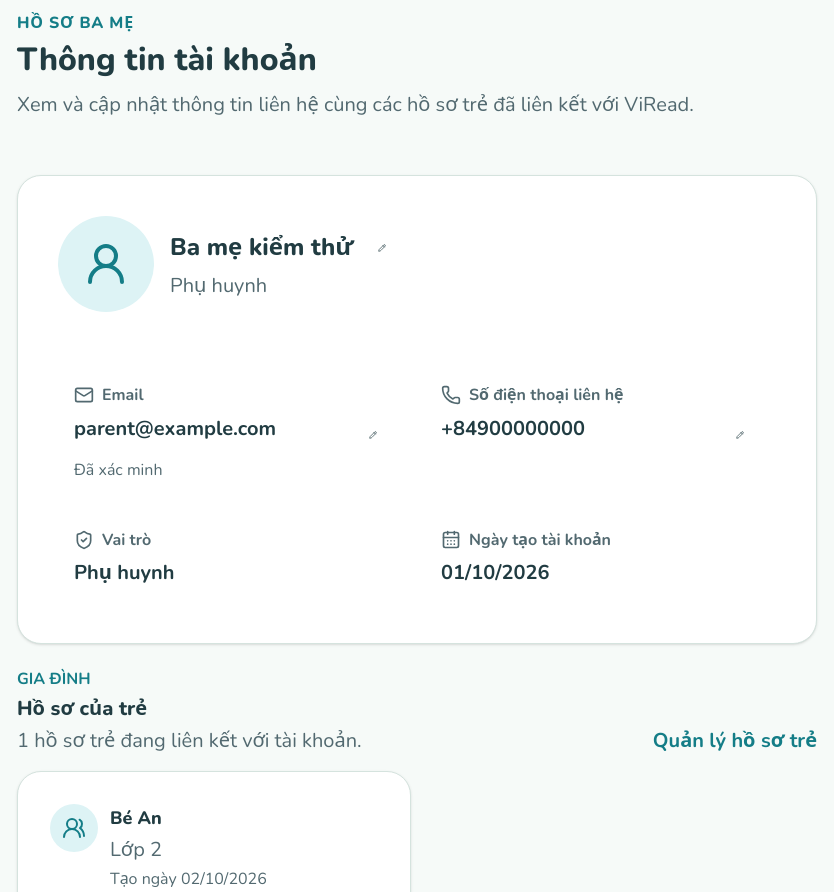
Test case: ParentProfileScreen inline editing › edits the email in place and leaves verification pending until Auth confirms it
This screenshot has width=834, height=892.
Click the button named "Chỉnh sửa email". click: (373, 435)
box: [353,415,393,455]
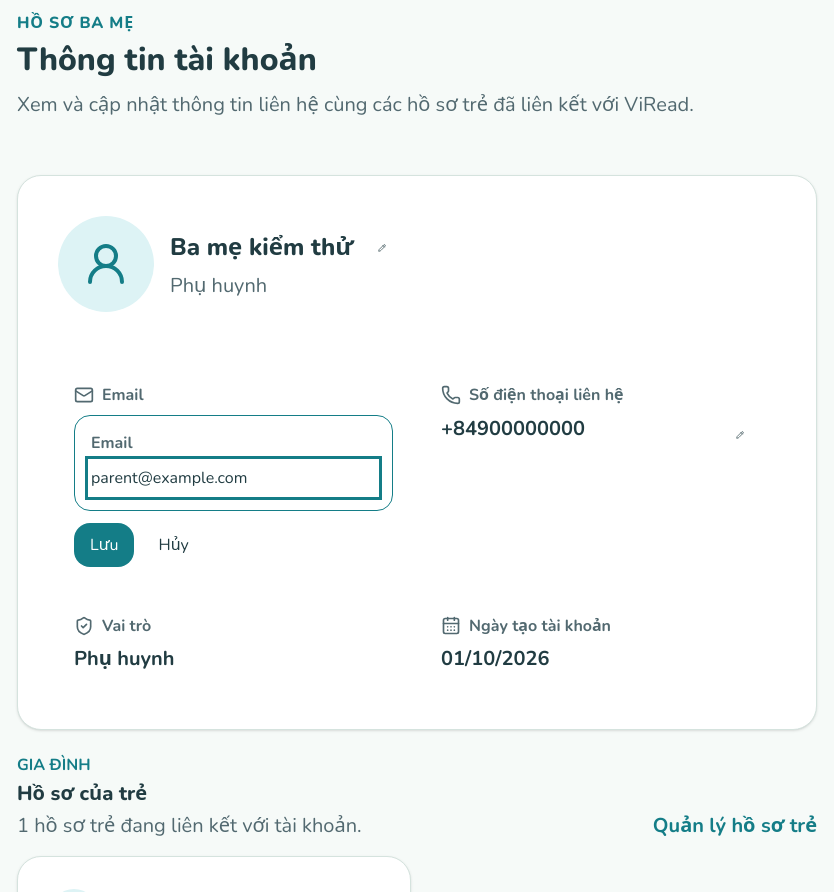
Result: the field labelled "Email" is shown
Replace the text in the field labelled "Email" with "new-parent@example.com". click: (234, 478)
box: [91,462,376,494]
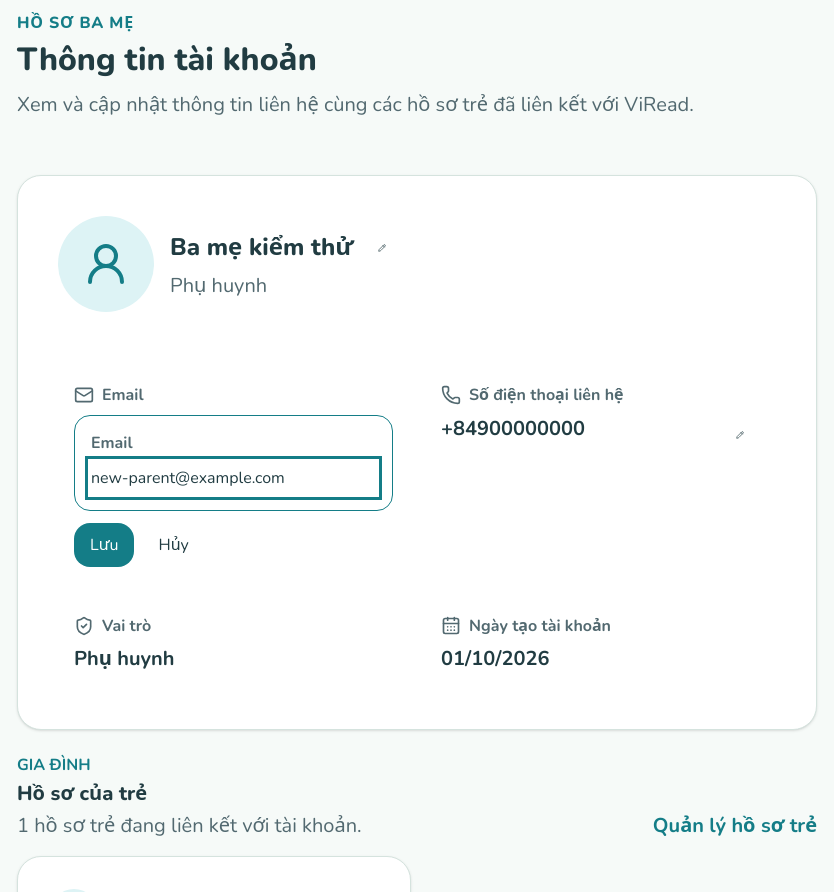
Click the button "Lưu". click: (104, 545)
box: [74,523,134,567]
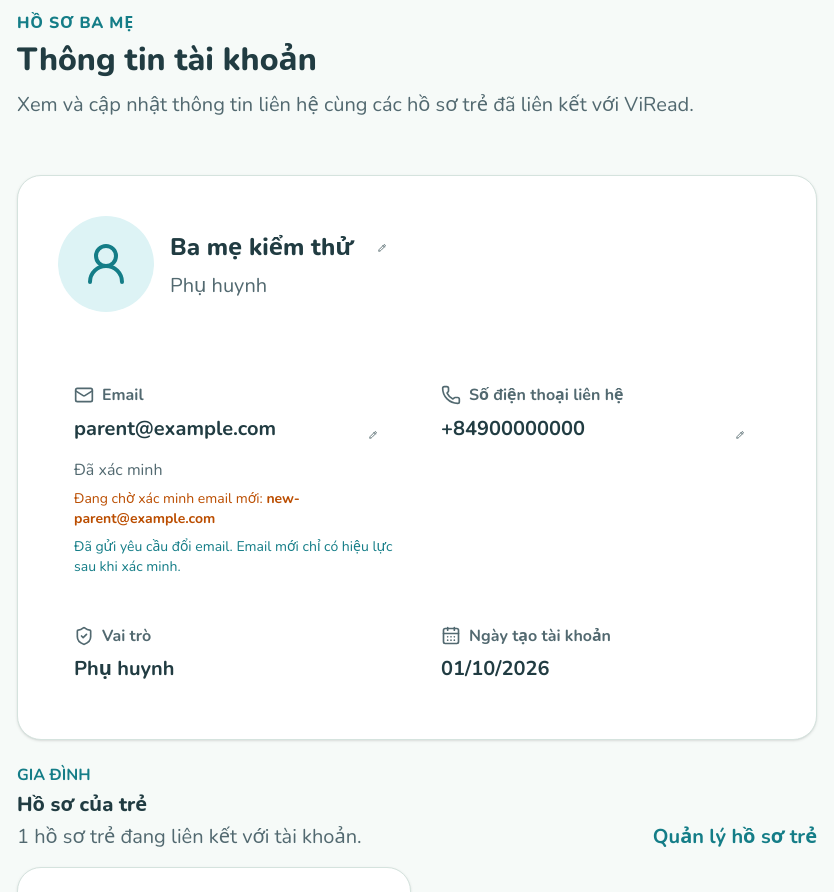
Result: the message shows "Đã gửi yêu cầu đổi email" at [74,537,392,576]
Result: the text "Đang chờ xác minh email mới:" is shown at [74,489,263,508]
Result: the text "new-parent@example.com" is shown at [74,489,300,528]
